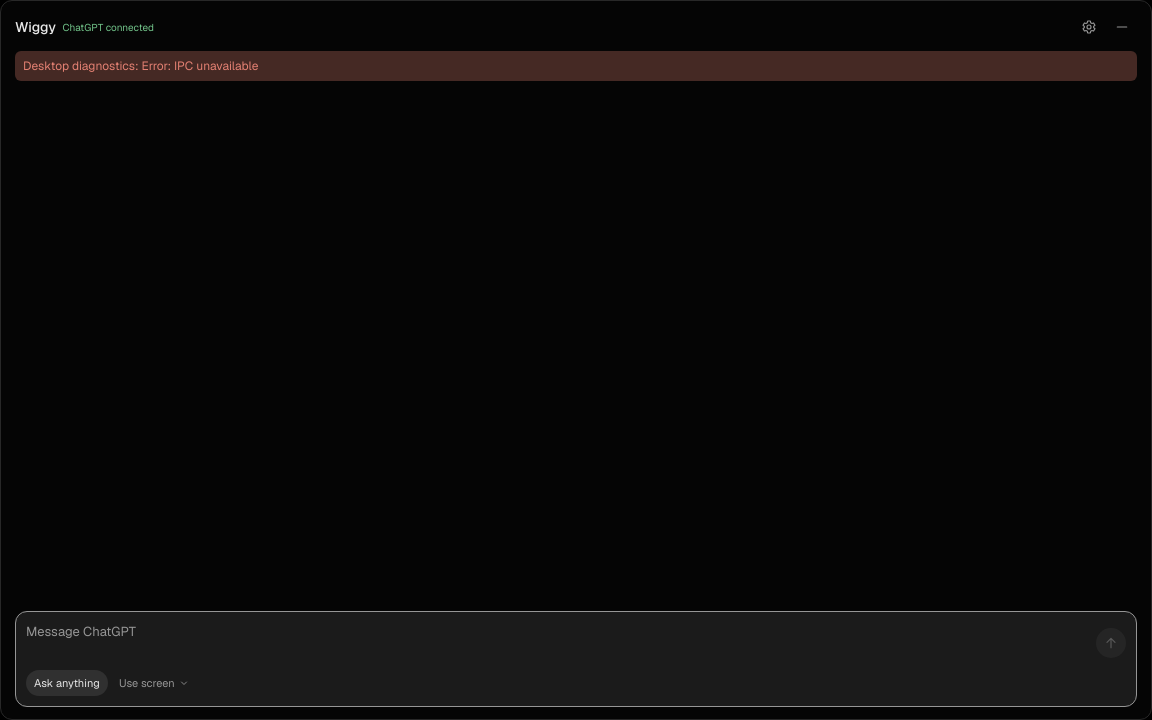
it: chat and settings › loads settings even if compositor diagnostics fail
The image size is (1152, 720).
Click the button named "Settings" at (1089, 27), box [1074,12,1104,42]
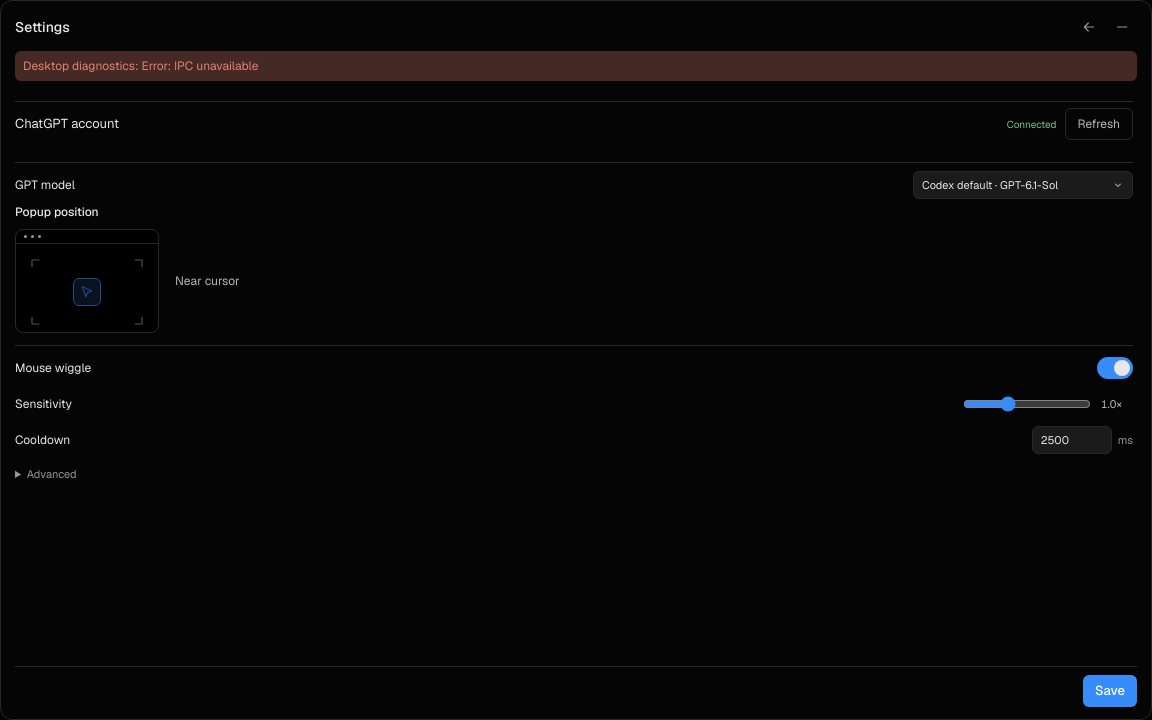
Expected: the number field named "Cooldown (milliseconds)" is shown, [1032,426,1112,454]
Expected: the button with aria-label "Save settings" is enabled, [1083,675,1137,707]
